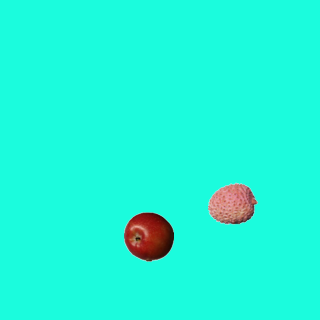Apple Braeburn: (123, 211, 173, 261)
Lychee: (207, 178, 257, 228)
